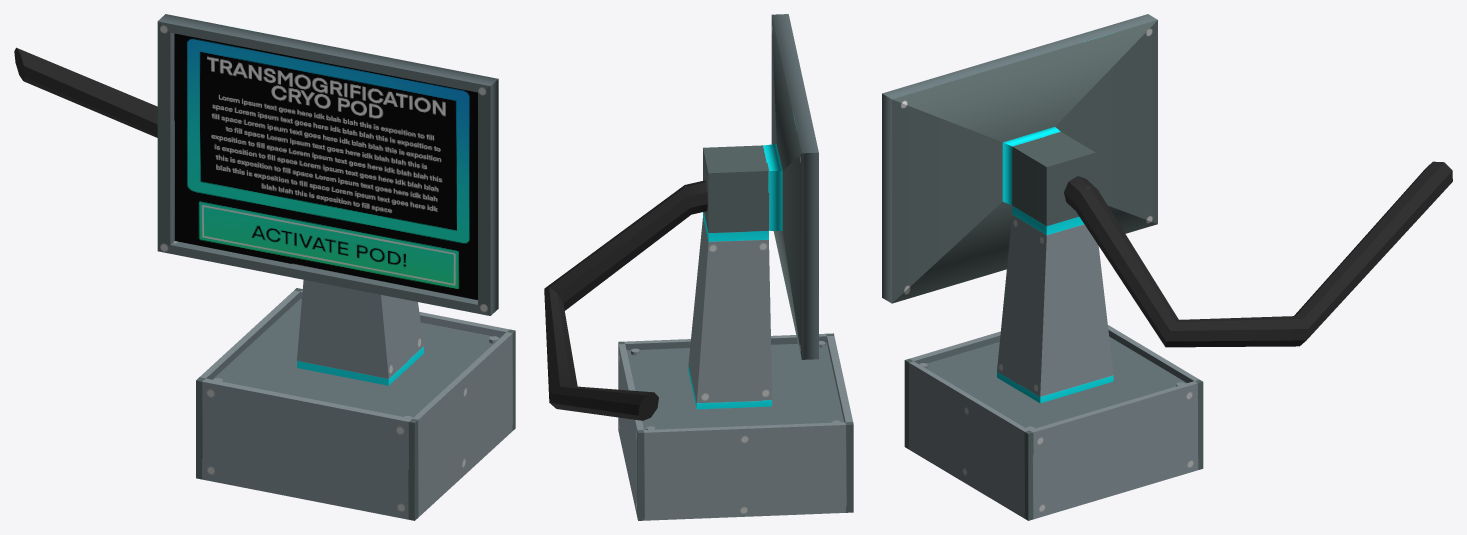
The model's file is Monitor.glb.
3 renders of one model, left to right at view 1: azimuth 30°, elevation 25°; view 2: azimuth 150°, elevation 25°; view 3: azimuth 270°, elevation 25°, orthographic. The views are drawn at different scales.
Visible parts, largest first — view 1: CryoMonitor; view 2: CryoMonitor; view 3: CryoMonitor.
Part boxes in pixels (bbox=[...]): CryoMonitor: bbox=[14, 14, 515, 520]; CryoMonitor: bbox=[544, 14, 853, 520]; CryoMonitor: bbox=[882, 14, 1452, 520].
Size of the model in its own units: 1.71 by 2.38 by 3.23.
Materials: 1 (1 with a texture image).
